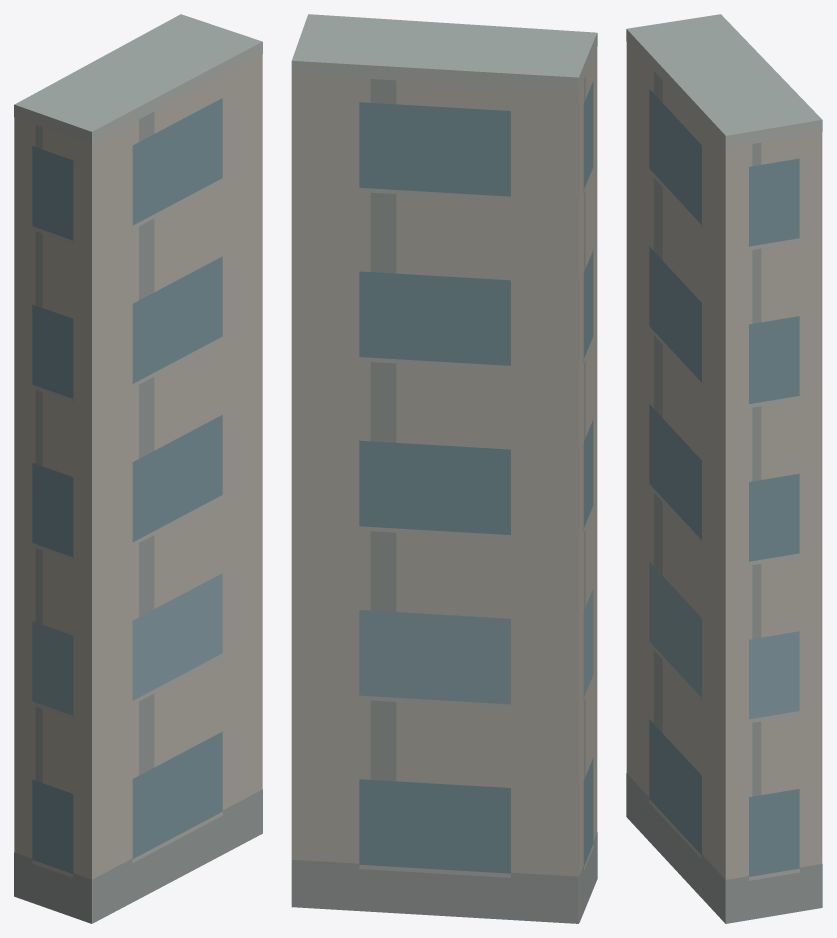
Rendered from survey-upis-32647306.glb.
3 renders of one model, left to right at view 1: azimuth 30°, elevation 25°; view 2: azimuth 150°, elevation 25°; view 3: azimuth 270°, elevation 25°, orthographic. The views are drawn at different scales.
Parts seen in each view (by area): view 1: survey-upis-32647306.tmp; view 2: survey-upis-32647306.tmp; view 3: survey-upis-32647306.tmp.
Boxes of the visible parts, bbox=[...] form: survey-upis-32647306.tmp: bbox=[14, 14, 262, 923]; survey-upis-32647306.tmp: bbox=[291, 14, 597, 923]; survey-upis-32647306.tmp: bbox=[626, 14, 822, 923].
Bounding box in the file's own units: 5.06 × 15.25 × 3.45.
